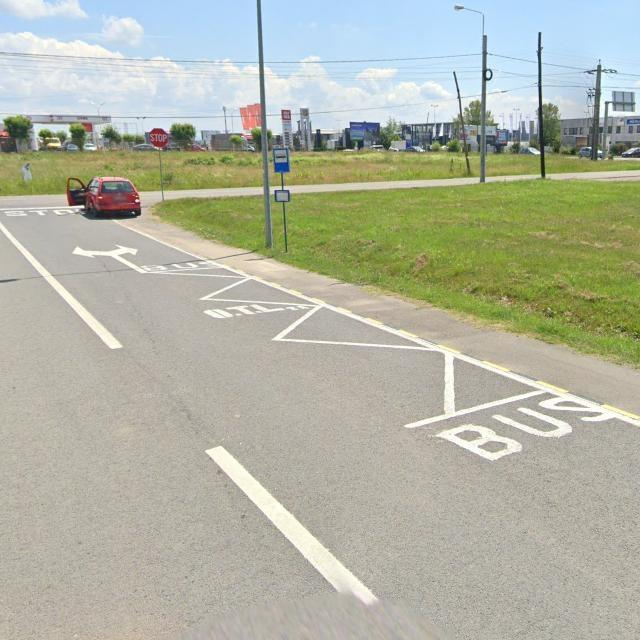prio_stop: (149, 128, 169, 148)
